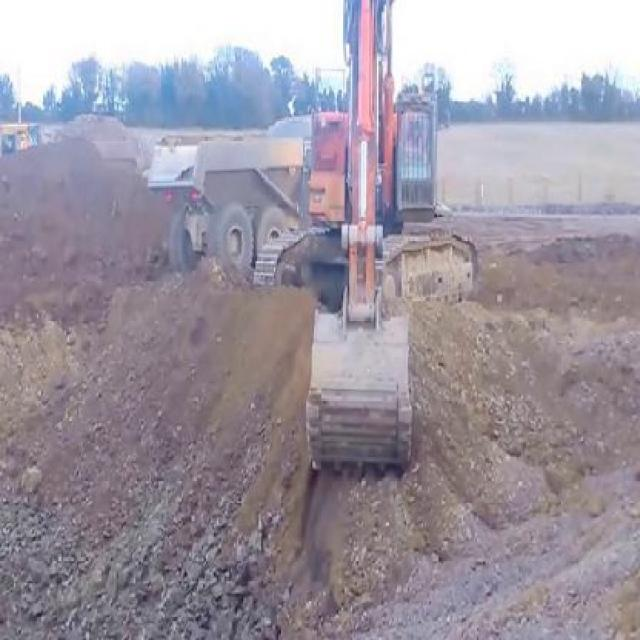Dump Truck: (146, 112, 312, 276)
Excavator: (250, 0, 477, 478)
